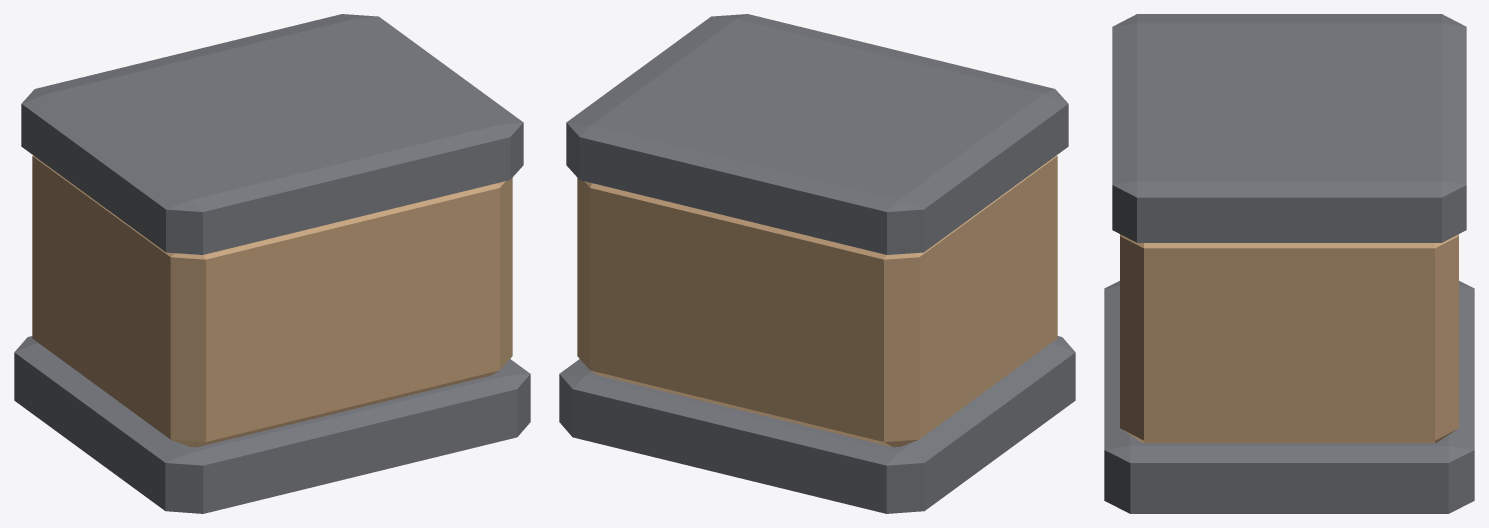
File: b14_pallet_bagged_mortar.glb
3 renders of one model, left to right at view 1: azimuth 30°, elevation 25°; view 2: azimuth 150°, elevation 25°; view 3: azimuth 270°, elevation 25°, orthographic. The views are drawn at different scales.
Parts seen in each view (by area): view 1: b14_pallet_bagged_mortar; view 2: b14_pallet_bagged_mortar; view 3: b14_pallet_bagged_mortar.
Boxes of the visible parts, box(x1,y1,x2,y2) form: b14_pallet_bagged_mortar: box(14, 14, 530, 513); b14_pallet_bagged_mortar: box(559, 14, 1075, 513); b14_pallet_bagged_mortar: box(1104, 14, 1474, 513).
Bounding box in the file's own units: 1.2 × 0.96 × 1.
